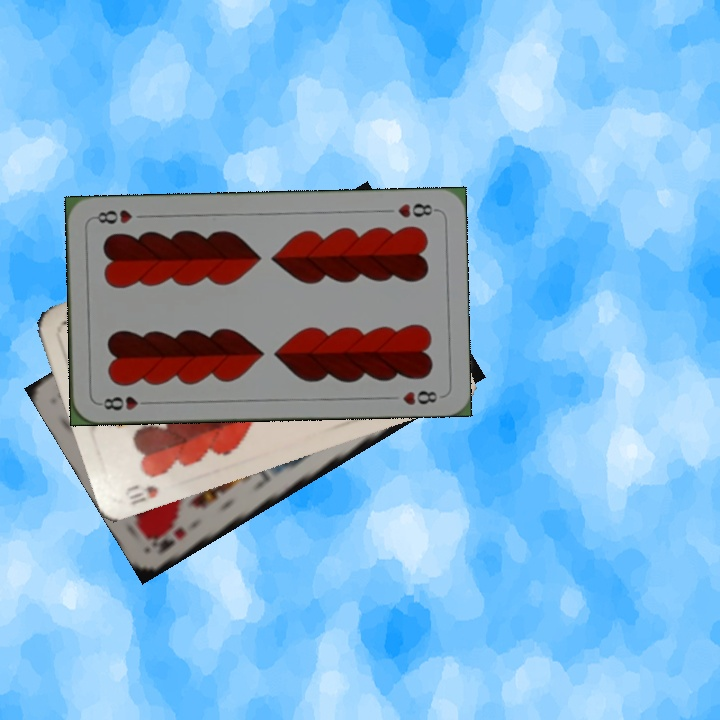H10: (121, 480, 161, 508)
H8: (95, 392, 154, 413), (394, 199, 440, 221)
HK: (153, 522, 188, 557)
